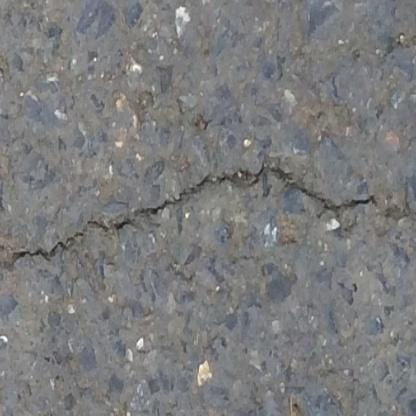Cracks: (10, 160, 383, 267)
